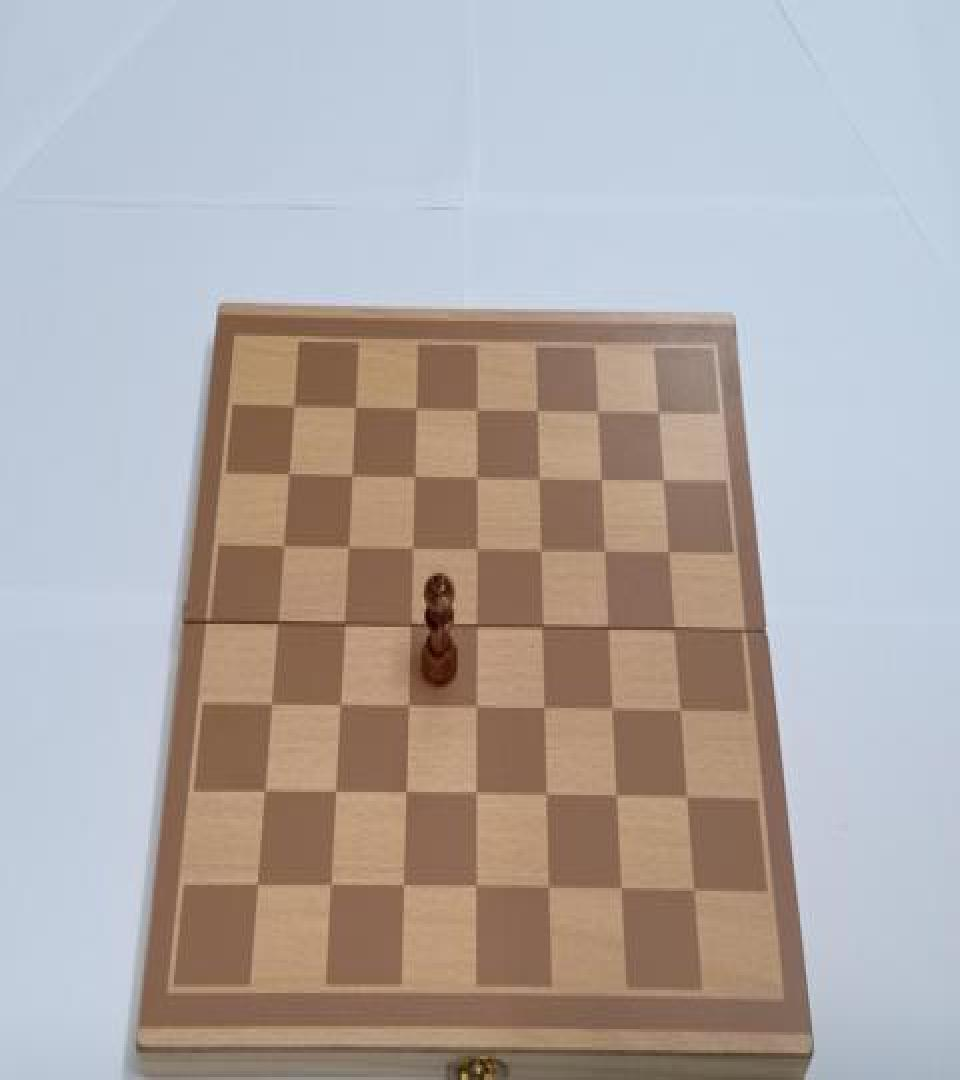xcorner: (279, 460, 297, 488), (261, 694, 279, 722), (406, 394, 424, 422), (529, 466, 547, 494), (273, 534, 291, 561), (267, 612, 285, 639), (255, 783, 273, 810), (247, 876, 265, 903), (345, 393, 363, 420), (341, 462, 359, 489), (330, 696, 348, 723), (325, 785, 343, 812), (402, 537, 420, 564), (400, 615, 418, 642), (396, 785, 414, 812), (394, 879, 412, 906), (467, 396, 485, 423), (467, 465, 485, 492), (467, 538, 485, 565), (467, 617, 485, 644), (467, 699, 485, 726), (467, 786, 485, 813), (467, 879, 485, 906), (528, 397, 546, 424), (531, 540, 549, 567), (533, 617, 551, 644), (535, 699, 553, 726), (539, 880, 557, 907), (588, 399, 606, 426), (592, 468, 610, 495), (599, 618, 617, 645), (603, 700, 621, 727), (607, 789, 625, 816), (612, 882, 630, 909), (649, 399, 667, 426), (654, 470, 672, 497), (671, 702, 689, 729), (678, 789, 696, 816), (284, 392, 302, 418), (338, 536, 356, 562), (334, 614, 352, 640), (321, 878, 339, 904), (404, 464, 422, 490), (398, 698, 416, 724), (537, 788, 555, 814), (595, 542, 613, 568), (659, 542, 677, 568), (665, 620, 683, 646), (685, 884, 703, 910)
